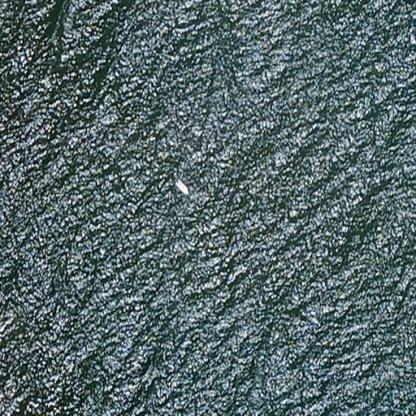ship: (166, 170, 192, 196)
